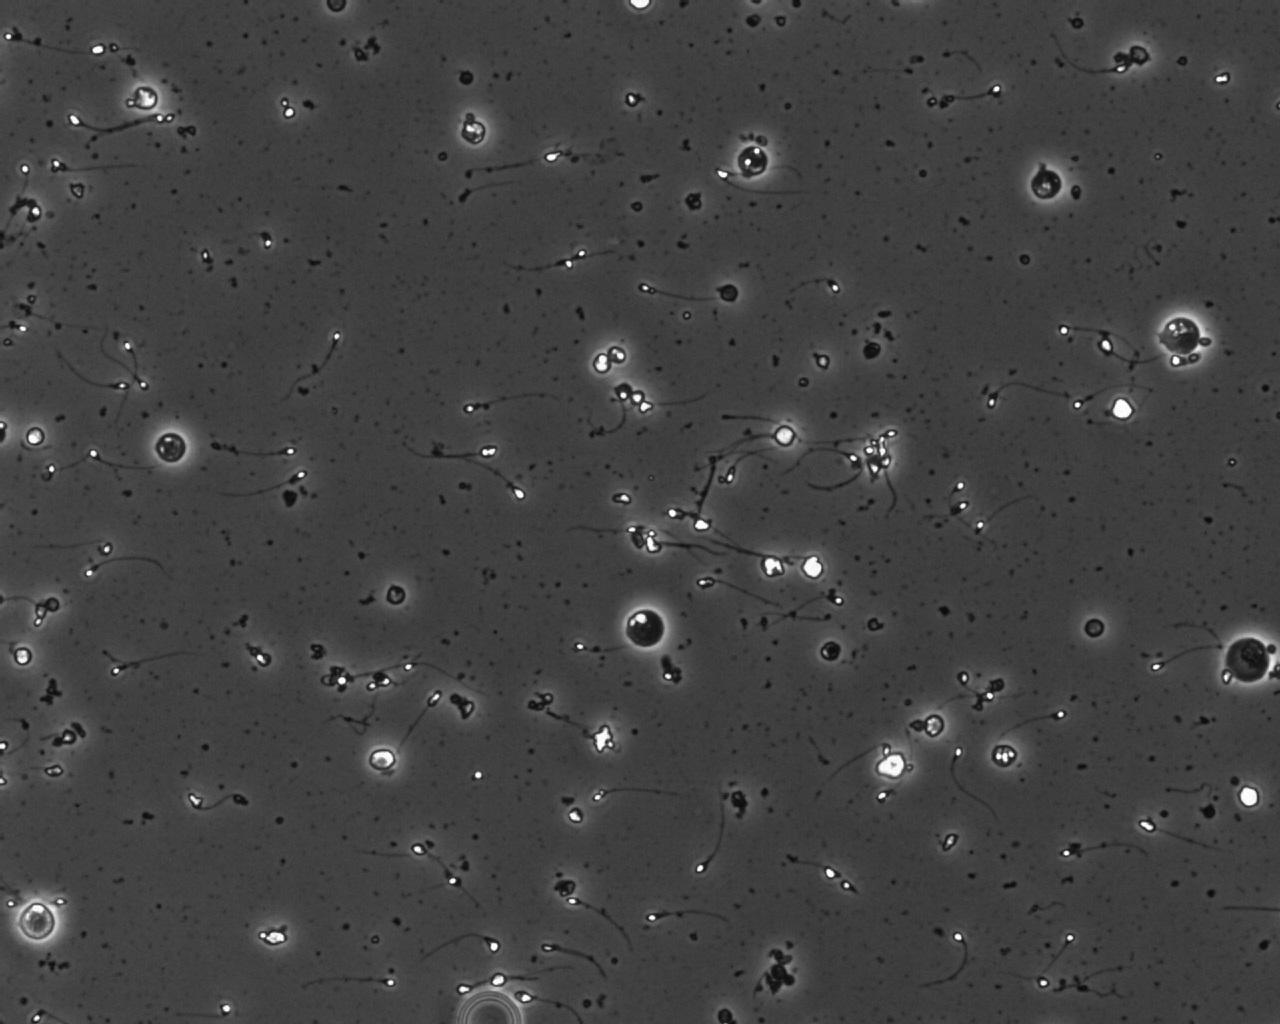cell: (1216, 627, 1280, 693), (618, 601, 674, 655), (1153, 309, 1208, 363), (731, 140, 773, 182), (1026, 163, 1068, 205), (149, 427, 192, 468), (365, 745, 400, 774), (458, 116, 489, 148), (129, 83, 161, 113), (757, 551, 789, 581), (1107, 394, 1138, 424), (988, 741, 1020, 771), (920, 709, 948, 741), (798, 552, 827, 582), (770, 422, 799, 450), (1234, 783, 1262, 811), (715, 280, 743, 307), (21, 423, 49, 450), (817, 638, 845, 666), (1080, 614, 1109, 641), (589, 350, 615, 377), (382, 582, 409, 609), (604, 342, 630, 368), (10, 644, 36, 670), (859, 339, 885, 363), (455, 66, 478, 89), (42, 595, 63, 615), (323, 0, 350, 16)
